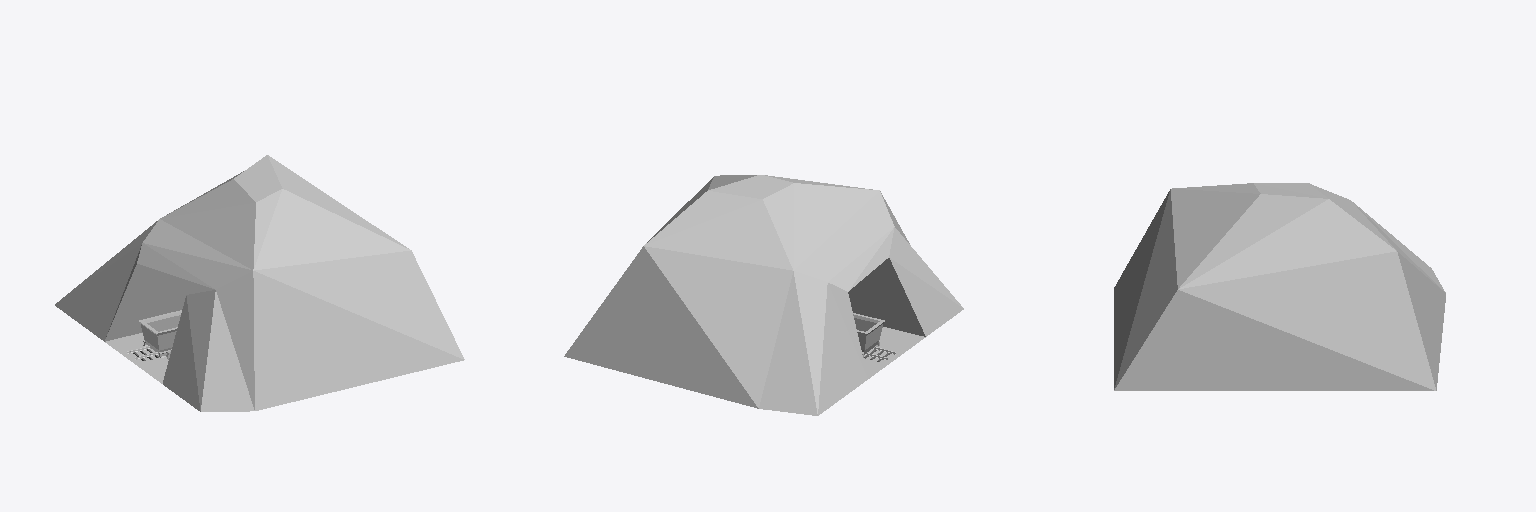
Rendered from Mine.obj.
The picture shows the model from 3 angles: view 1: azimuth 30°, elevation 25°; view 2: azimuth 150°, elevation 25°; view 3: azimuth 270°, elevation 25°; orthographic projection.
Parts seen in each view (by area): view 1: Cube, gun_Cube.002; view 2: Cube, gun_Cube.002; view 3: Cube.
Part boxes in pixels (x1,y1,x2,y2): Cube: (55, 155, 464, 411); gun_Cube.002: (139, 310, 181, 359); Cube: (564, 175, 963, 415); gun_Cube.002: (853, 313, 884, 357); Cube: (1114, 183, 1445, 390).
Bounding box in the file's own units: 1.8 × 1.02 × 2.06.